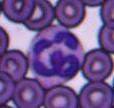N: (27, 26, 84, 80)
